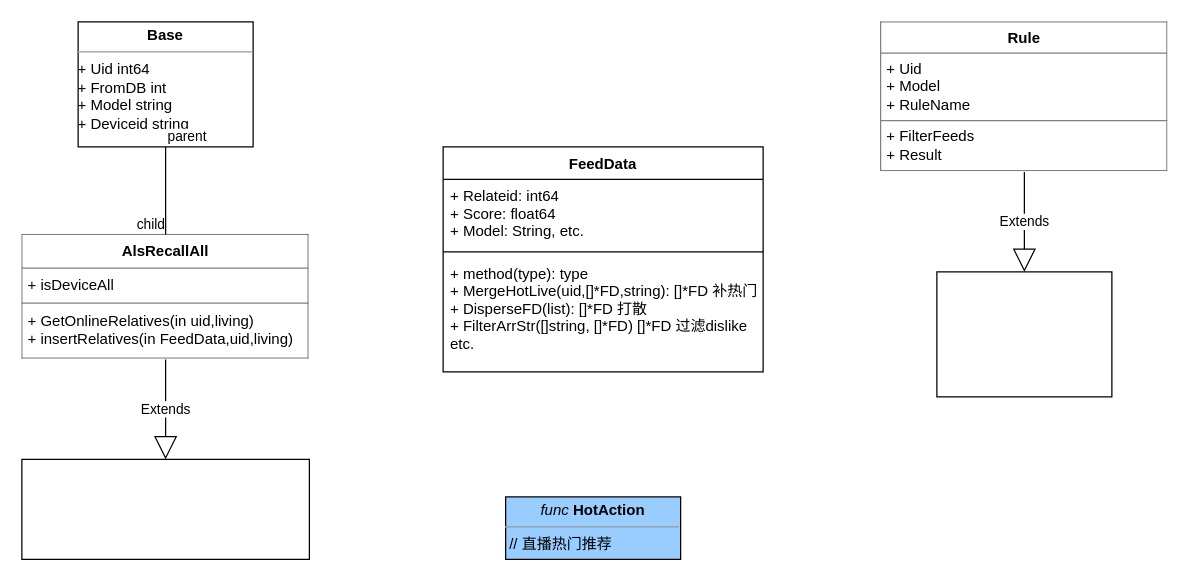
This 1190x581 diagram has some shape labels left out. Here are the shapes that lost their labels. From the top down, the centre of each, then its label:
At [1024,334]: "<<Interface>> wrapResult + uid int64 + model string + list []*FD, etc.".
At [165,508]: "<<Interface>> Model + GetData(uid int64): []*feed.FeedData + GetName(): String".
